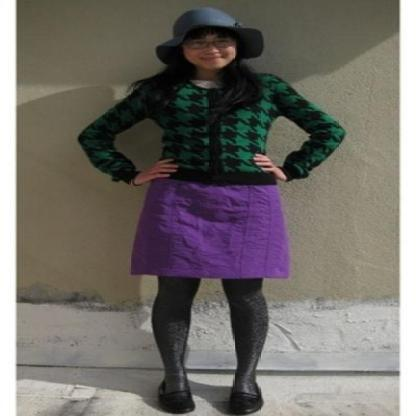hat: (156, 8, 263, 68)
jacket: (77, 73, 345, 186)
shoe: (162, 384, 261, 416)
skirt: (130, 177, 289, 281)
